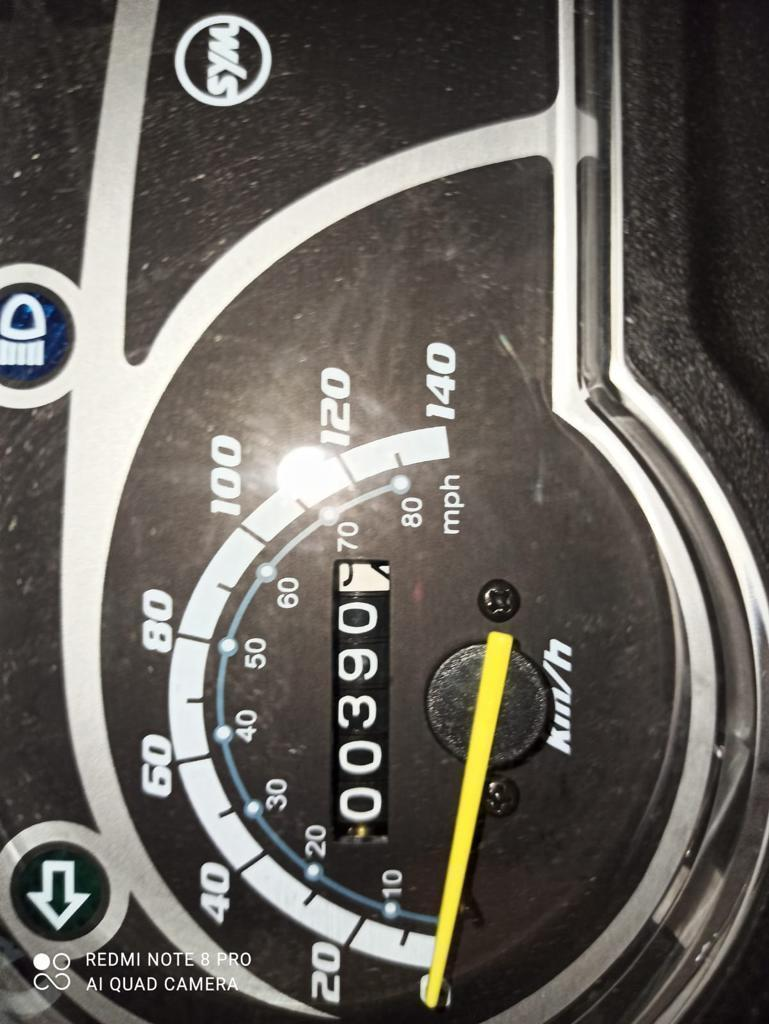0: (334, 784, 384, 825), (336, 738, 385, 776), (334, 598, 381, 637)
3: (333, 691, 380, 731)
4: (366, 555, 402, 592)
9: (334, 645, 385, 683)
odometer: (327, 549, 406, 847)
